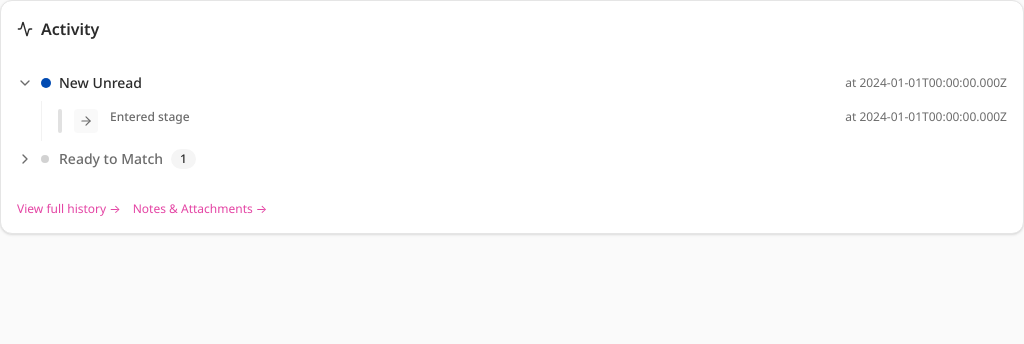
Test: ActivityTimeline › expands a non-current stage when clicked
This screenshot has width=1024, height=344.
Expected: the text "Stage 2 note" is not shown
Click the button "Ready to Match 1". click: (111, 158)
box: [17,141,1007,177]
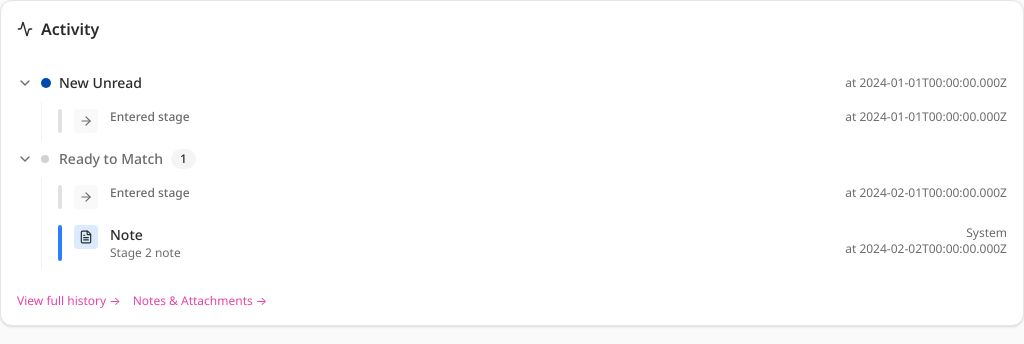
Expected: the text "Stage 2 note" is shown, [110,244,181,261]
